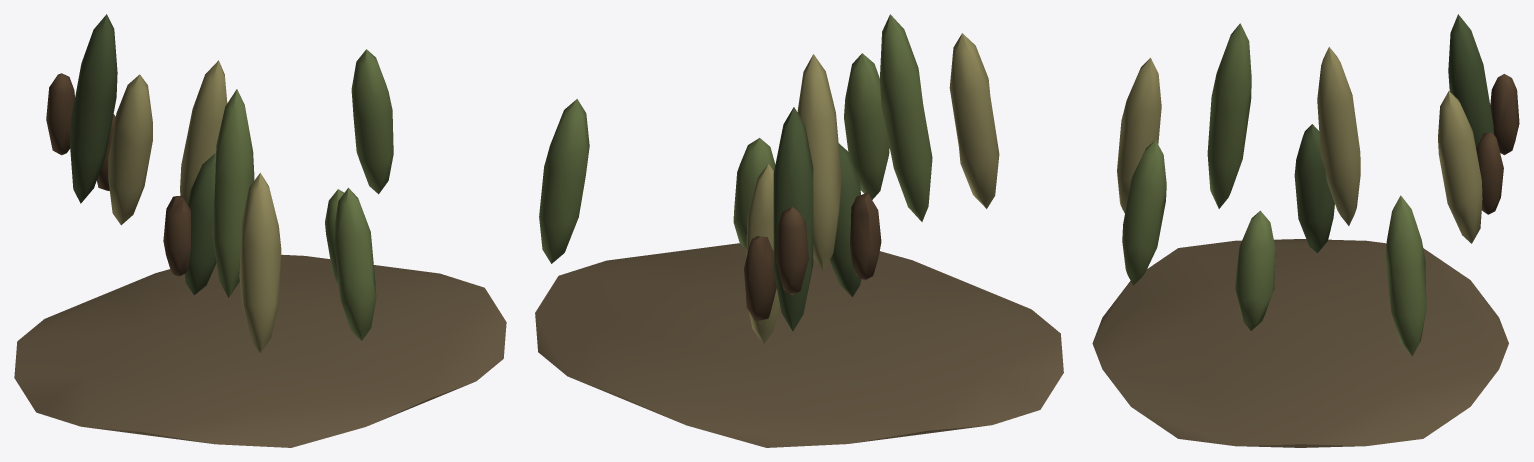
The model's file is reed_clump_b_lod1.glb.
3 views of the same model, side by side, from view 1: azimuth 30°, elevation 25°; view 2: azimuth 150°, elevation 25°; view 3: azimuth 270°, elevation 25° (orthographic). The views are drawn at different scales.
Parts seen in each view (by area): view 1: Surface.001; view 2: Surface.001; view 3: Surface.001.
Part boxes in pixels (x1,y1,x2,y2): Surface.001: (14, 14, 506, 447); Surface.001: (535, 14, 1063, 447); Surface.001: (1092, 14, 1519, 447).
Bounding box in the file's own units: 2.45 × 1.7 × 2.04.
